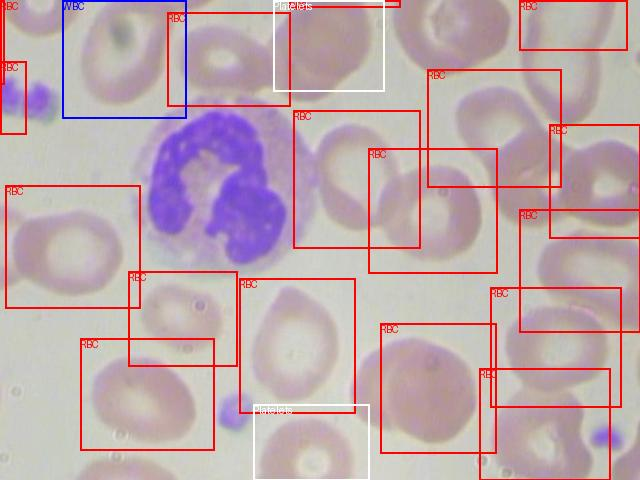Platelets: (273, 0, 384, 91), (253, 404, 369, 480)
RBC: (293, 110, 420, 248), (5, 185, 140, 308), (368, 148, 497, 273), (427, 69, 561, 187), (490, 287, 621, 407), (239, 278, 355, 413), (380, 323, 496, 453), (80, 338, 214, 450), (519, 209, 640, 332), (479, 368, 610, 480), (167, 12, 290, 106), (549, 124, 640, 238), (128, 271, 237, 366), (519, 0, 627, 50), (0, 61, 26, 134), (289, 0, 400, 7), (0, 0, 4, 84)
WBC: (62, 0, 186, 118)
